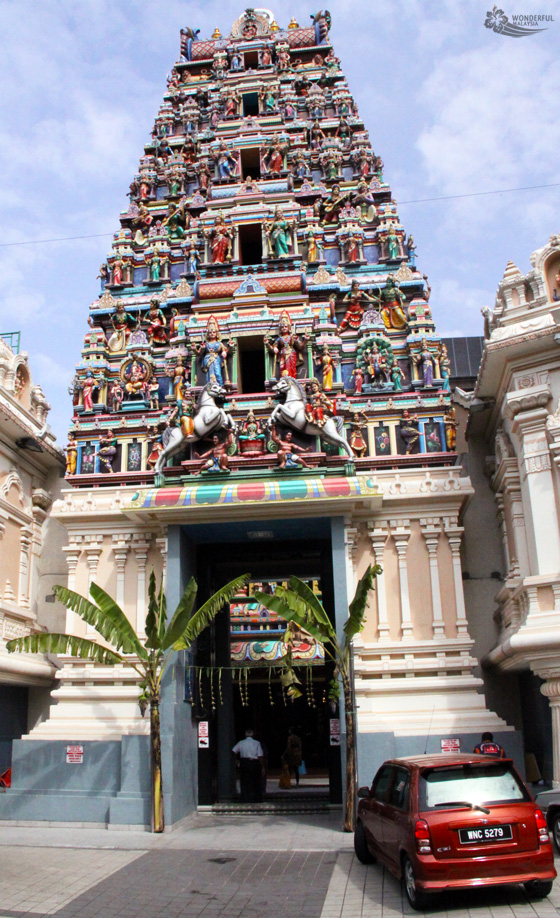Hindu Temple: (43, 7, 471, 809)
